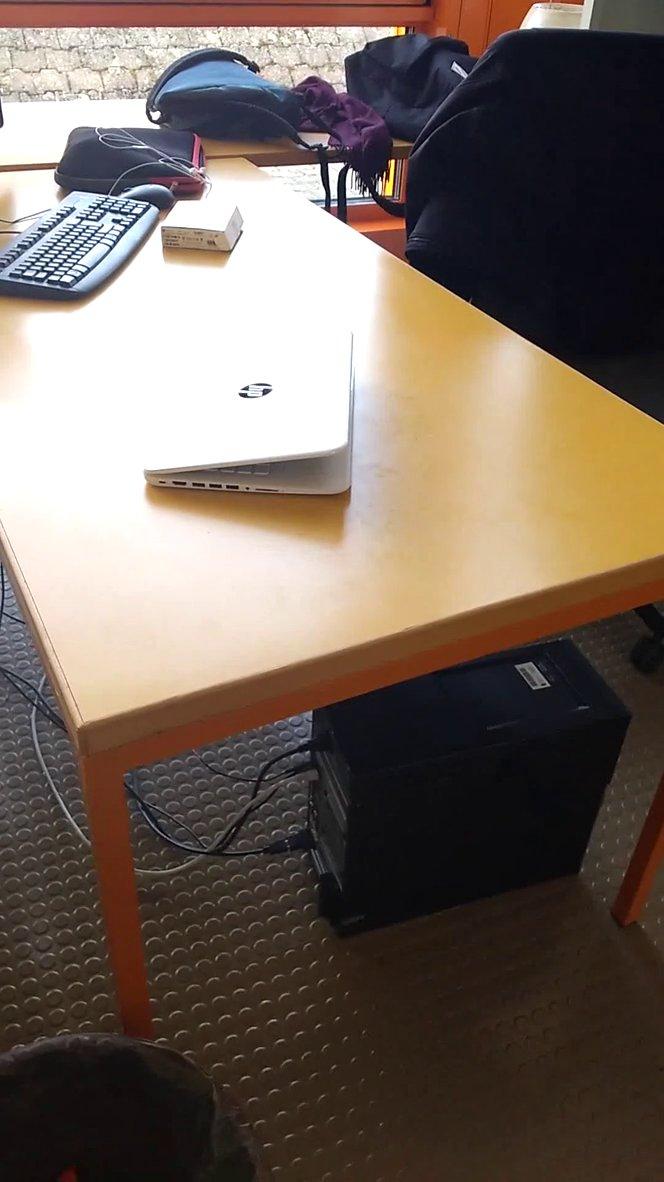bag: (144, 36, 329, 166), (338, 28, 513, 153)
laptop: (129, 311, 371, 518)
